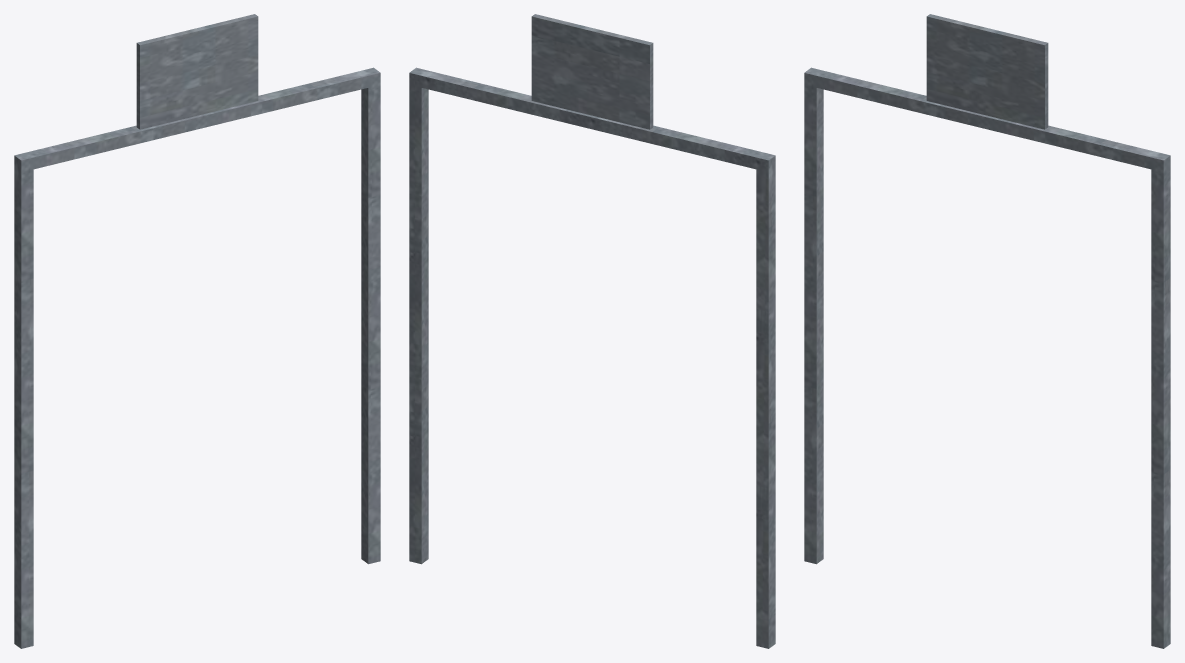
File: gate2.dae
The picture shows the model from 3 angles, left to right: view 1: azimuth 30°, elevation 25°; view 2: azimuth 150°, elevation 25°; view 3: azimuth 330°, elevation 25°; orthographic projection.
Parts seen in each view (by area): view 1: Cube_002-Node; view 2: Cube_002-Node; view 3: Cube_002-Node.
Boxes of the visible parts, x1=… form: Cube_002-Node: x1=14, y1=14, x2=380, y2=648; Cube_002-Node: x1=409, y1=14, x2=775, y2=648; Cube_002-Node: x1=804, y1=14, x2=1170, y2=648.
Size of the model in its own units: 7.16 by 0.2409 by 10.9.
